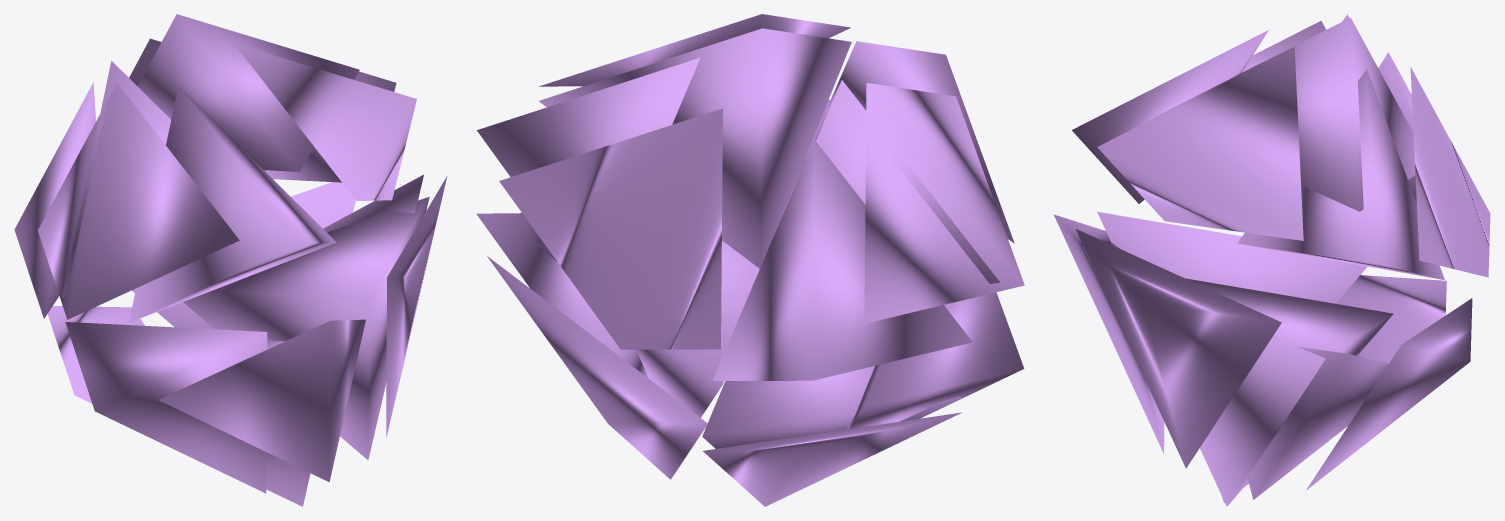
File: 16-cell.glb
3 renders of one model, left to right at view 1: azimuth 30°, elevation 25°; view 2: azimuth 150°, elevation 25°; view 3: azimuth 270°, elevation 25°, orthographic. The views are drawn at different scales.
Visible parts, largest first — view 1: Projected 16-cell; view 2: Projected 16-cell; view 3: Projected 16-cell.
Boxes of the visible parts, left/top/right/bottom form: Projected 16-cell: left=14, top=14, right=447, bottom=506; Projected 16-cell: left=476, top=14, right=1024, bottom=506; Projected 16-cell: left=1053, top=14, right=1490, bottom=506.
Size of the model in its own units: 2.55 by 2.71 by 2.35.
